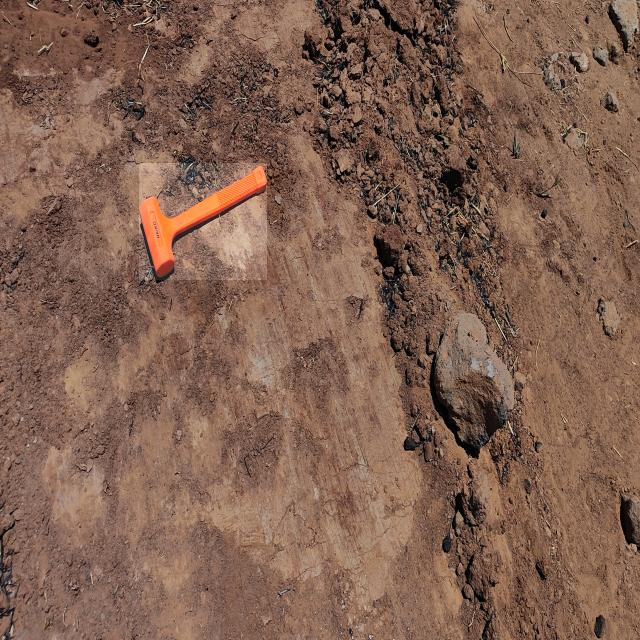Orange_hammer: (139, 163, 267, 280)
